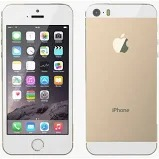iphone: (84, 1, 159, 157), (1, 1, 74, 156)
iphone6: (84, 1, 158, 157), (1, 1, 74, 157)
